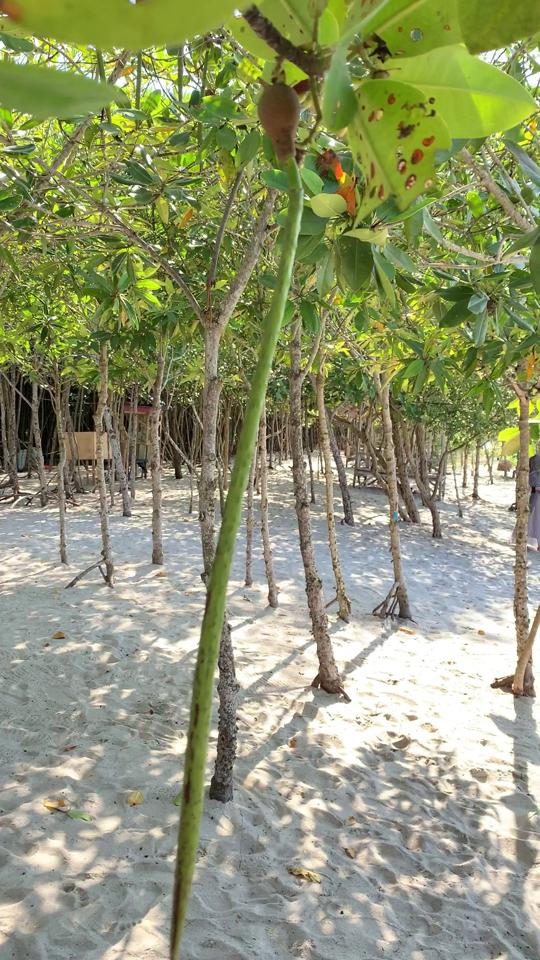mentah: (157, 67, 339, 958)
